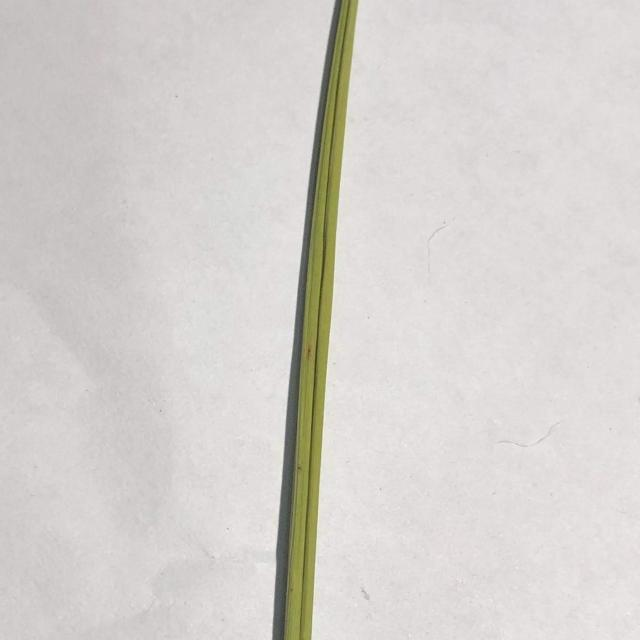brownspots: (295, 458, 308, 478), (304, 342, 312, 368)
